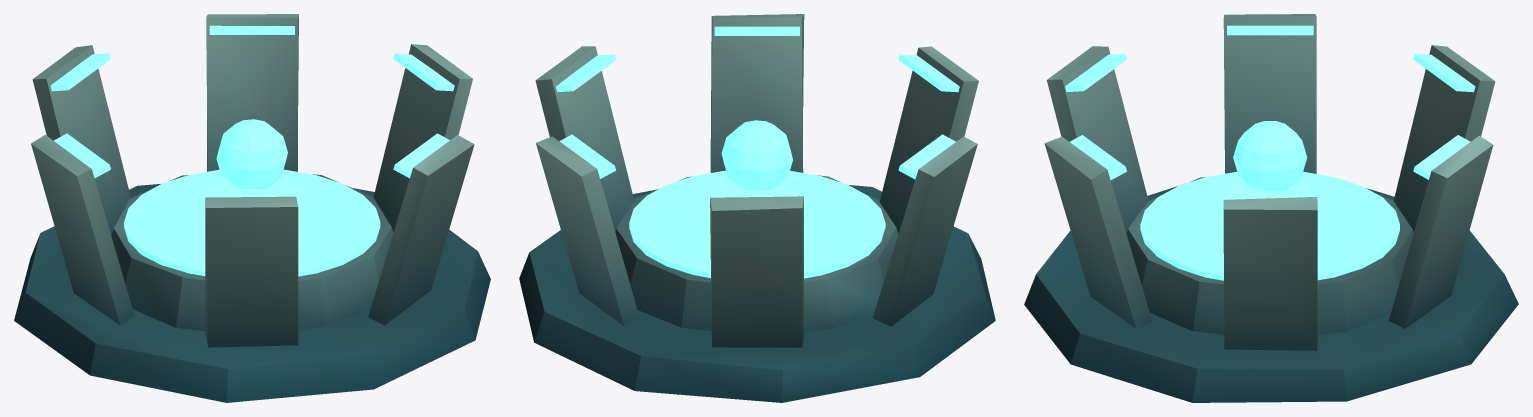
Rendered from ruin_station_spring.glb.
3 views of the same model, side by side, from view 1: azimuth 30°, elevation 25°; view 2: azimuth 150°, elevation 25°; view 3: azimuth 270°, elevation 25° (orthographic).
Parts seen in each view (by area): view 1: ruin_station_spring_stone, ruin_station_spring_glow; view 2: ruin_station_spring_stone, ruin_station_spring_glow; view 3: ruin_station_spring_stone, ruin_station_spring_glow.
Boxes of the visible parts, x1,y1,x2,y2 form: ruin_station_spring_stone: [14, 14, 490, 402]; ruin_station_spring_glow: [50, 25, 454, 276]; ruin_station_spring_stone: [519, 14, 995, 402]; ruin_station_spring_glow: [556, 26, 959, 278]; ruin_station_spring_stone: [1024, 14, 1518, 402]; ruin_station_spring_glow: [1065, 25, 1475, 280].
Bounding box in the file's own units: 7.59 × 3.53 × 8.
